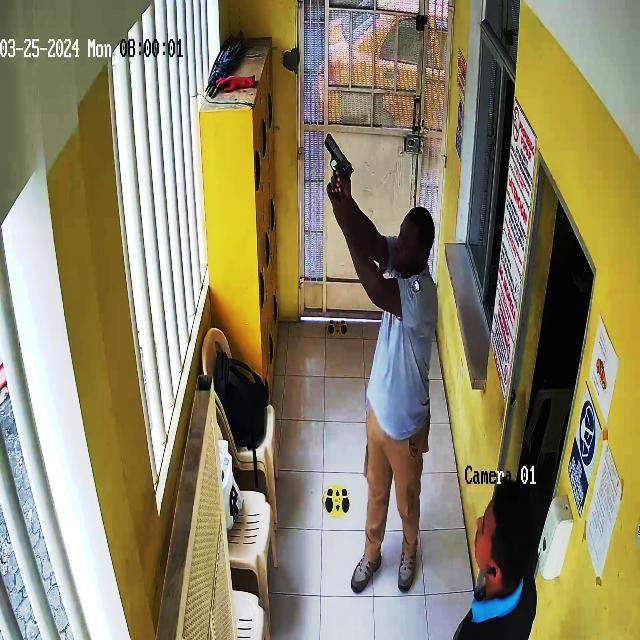Gun: (312, 120, 361, 199)
